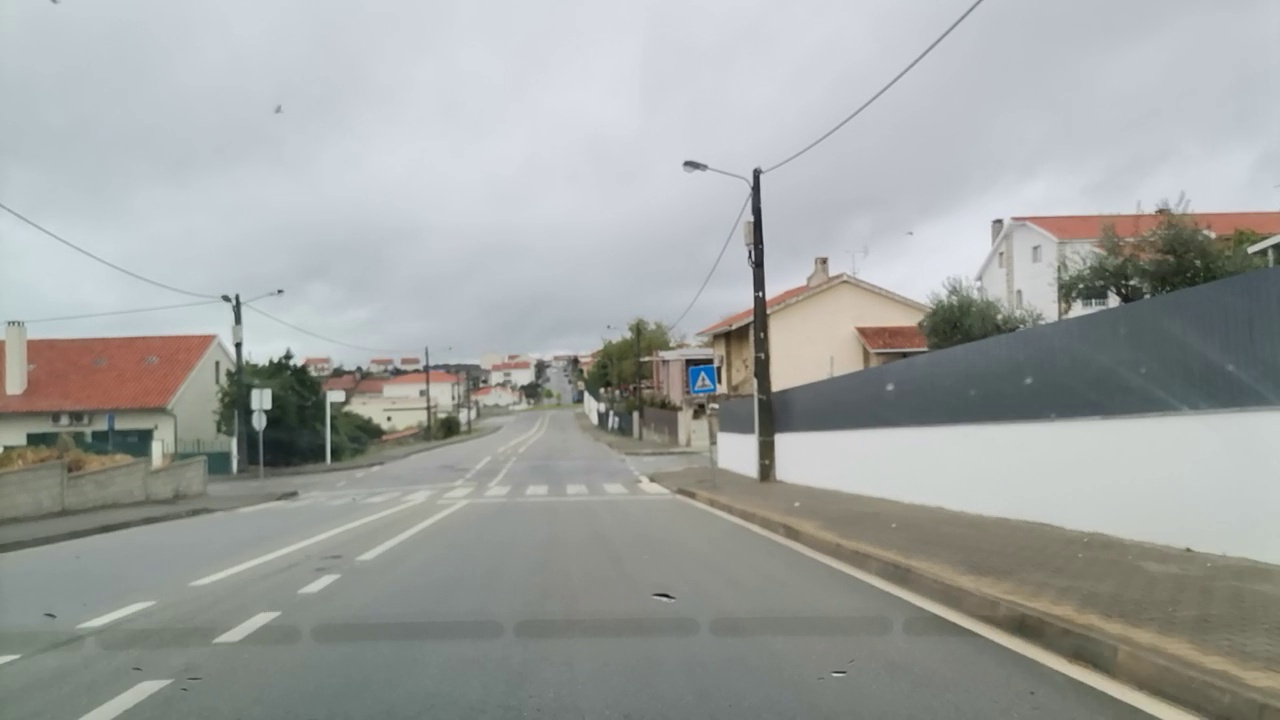Stairs: (251, 481, 675, 506)
